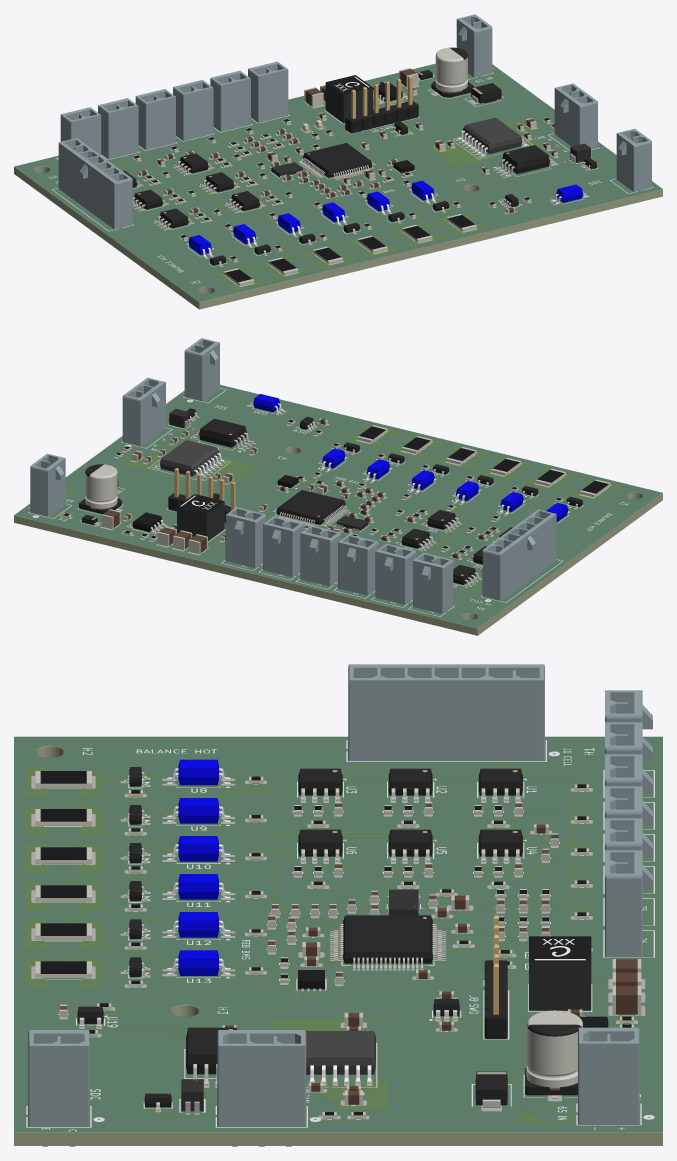
Rendered from FEB_BMS.glb.
3 views of the same model, one above another, from view 1: azimuth 30°, elevation 25°; view 2: azimuth 150°, elevation 25°; view 3: azimuth 270°, elevation 25° (orthographic). The views are drawn at different scales.
Visible parts, largest first — view 1: =>[0:1:1:75], =>[0:1:1:13], =>[0:1:1:70], =>[0:1:1:57], =>[0:1:1:17], =>[0:1:1:17].005, =>[0:1:1:17].001, =>[0:1:1:17].004, =>[0:1:1:17].002, =>[0:1:1:59], =>[0:1:1:74], =>[0:1:1:33] (+11 smaller); view 2: =>[0:1:1:75], =>[0:1:1:13], =>[0:1:1:70], =>[0:1:1:17].003, =>[0:1:1:17].002, =>[0:1:1:17].001, =>[0:1:1:17].004, =>[0:1:1:17], =>[0:1:1:17].005, =>[0:1:1:59], =>[0:1:1:74], =>[0:1:1:61] (+7 smaller); view 3: =>[0:1:1:75], =>[0:1:1:13], =>[0:1:1:70], =>[0:1:1:74], =>[0:1:1:59], =>[0:1:1:33], =>[0:1:1:61], =>[0:1:1:51], =>[0:1:1:17].004, BODY-DVE0016A, =>[0:1:1:57], =>[0:1:1:15] (+27 smaller).
Part boxes in pixels (x1,y1,x2,y2): =>[0:1:1:75]: (14, 63, 662, 309); =>[0:1:1:13]: (58, 138, 132, 229); =>[0:1:1:70]: (554, 83, 597, 149); =>[0:1:1:57]: (345, 76, 418, 133); =>[0:1:1:17]: (98, 98, 138, 159); =>[0:1:1:17].005: (135, 89, 175, 149); =>[0:1:1:17].001: (210, 70, 250, 131); =>[0:1:1:17].004: (248, 61, 288, 122); =>[0:1:1:17].002: (173, 80, 213, 140); =>[0:1:1:59]: (616, 128, 651, 191); =>[0:1:1:74]: (456, 14, 492, 77); =>[0:1:1:33]: (301, 143, 374, 179); =>[0:1:1:75]: (14, 384, 662, 635); =>[0:1:1:13]: (482, 509, 556, 600); =>[0:1:1:70]: (122, 377, 165, 446); =>[0:1:1:17].003: (413, 553, 453, 613); =>[0:1:1:17].002: (300, 525, 340, 586); =>[0:1:1:17].001: (263, 516, 303, 577); =>[0:1:1:17].004: (225, 507, 265, 568); =>[0:1:1:17]: (375, 543, 415, 604); =>[0:1:1:17].005: (338, 534, 378, 595); =>[0:1:1:59]: (184, 338, 219, 401); =>[0:1:1:74]: (30, 453, 65, 516); =>[0:1:1:61]: (177, 494, 224, 540); =>[0:1:1:75]: (14, 736, 662, 1145); =>[0:1:1:13]: (348, 664, 544, 760); =>[0:1:1:70]: (217, 1030, 306, 1146); =>[0:1:1:74]: (578, 1027, 639, 1124); =>[0:1:1:59]: (28, 1030, 89, 1146); =>[0:1:1:33]: (334, 915, 441, 968); =>[0:1:1:61]: (529, 936, 591, 1010); =>[0:1:1:51]: (525, 1010, 582, 1098); =>[0:1:1:17].004: (605, 850, 652, 956); BODY-DVE0016A: (305, 1031, 375, 1074); =>[0:1:1:57]: (484, 915, 507, 1038); =>[0:1:1:15]: (186, 1027, 236, 1085).
Bounding box in the file's own units: 0.104 × 0.0131 × 0.072.
